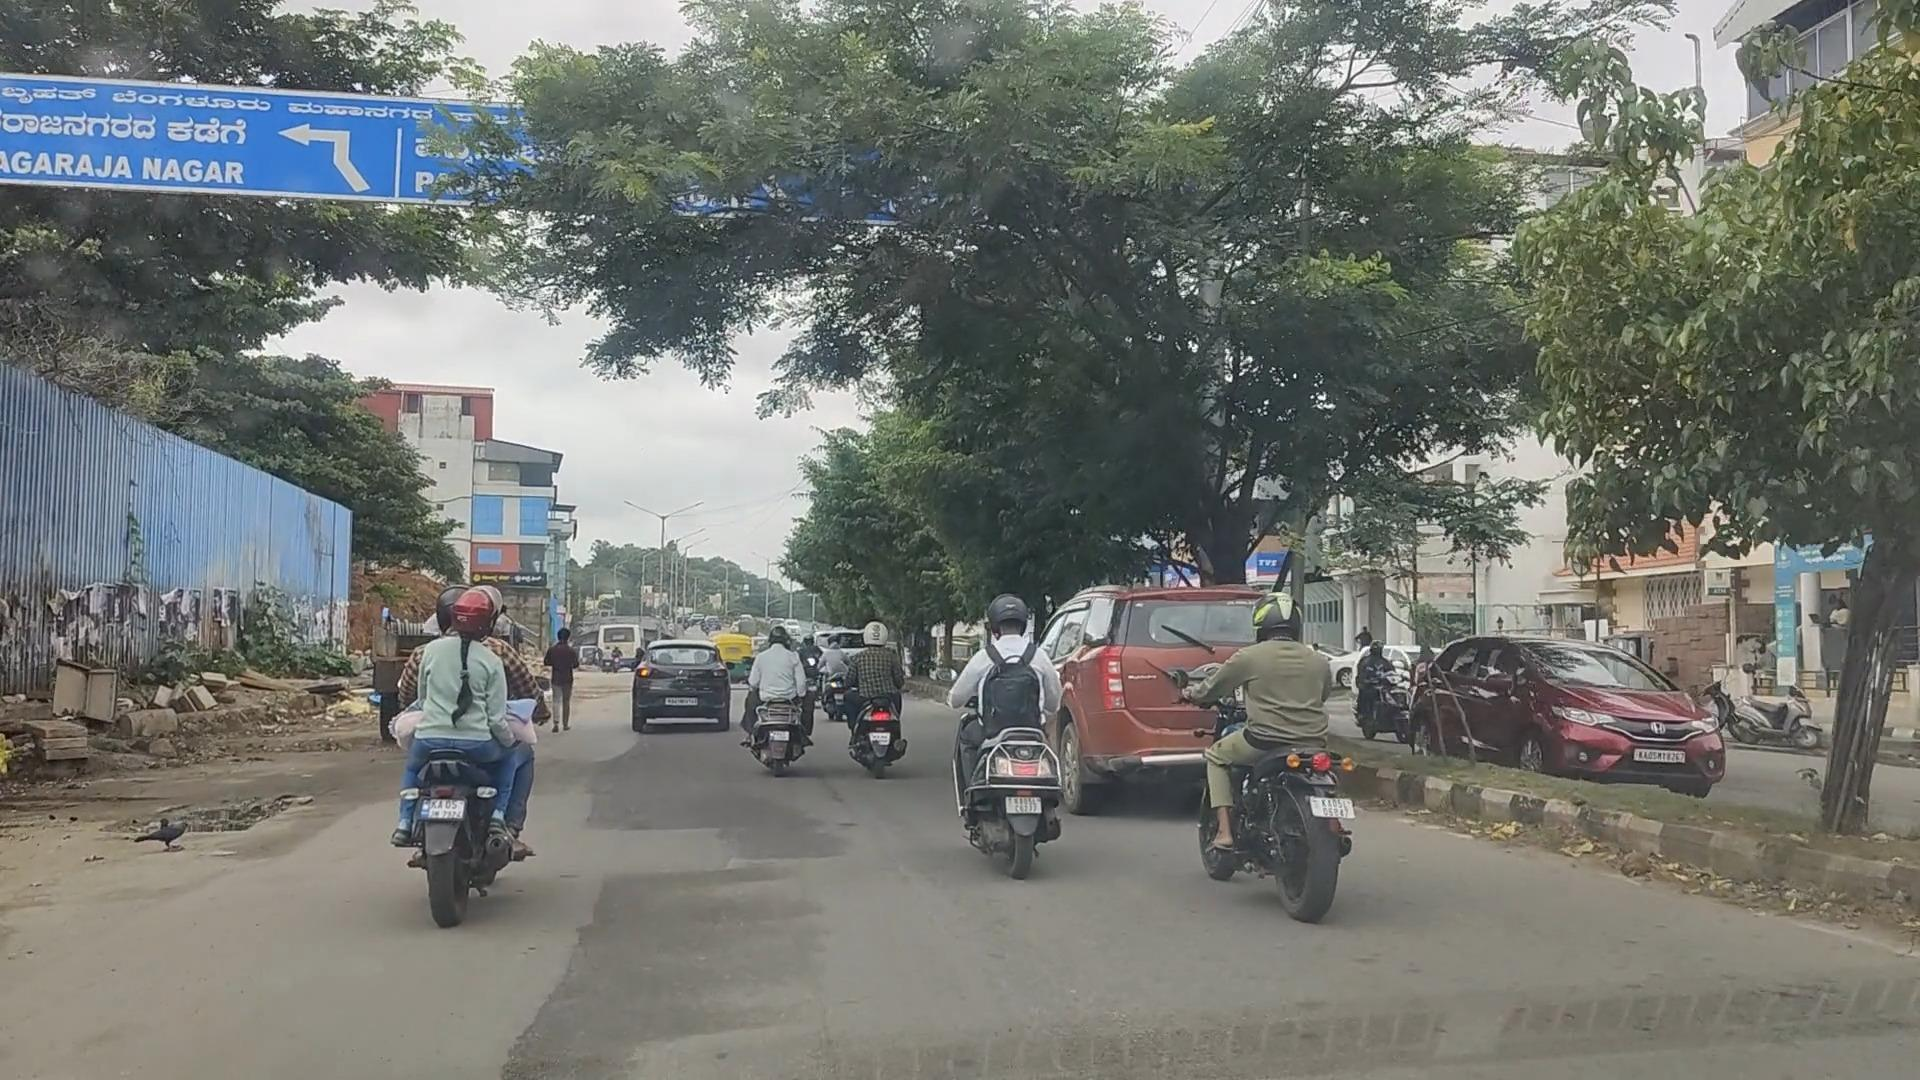LMV: (397, 570, 553, 930), (1196, 611, 1366, 919), (973, 626, 1065, 858), (836, 617, 914, 754), (746, 624, 807, 766), (633, 637, 716, 721)
RoadDamages: (506, 953, 819, 1080), (596, 794, 851, 905), (124, 777, 330, 872)
